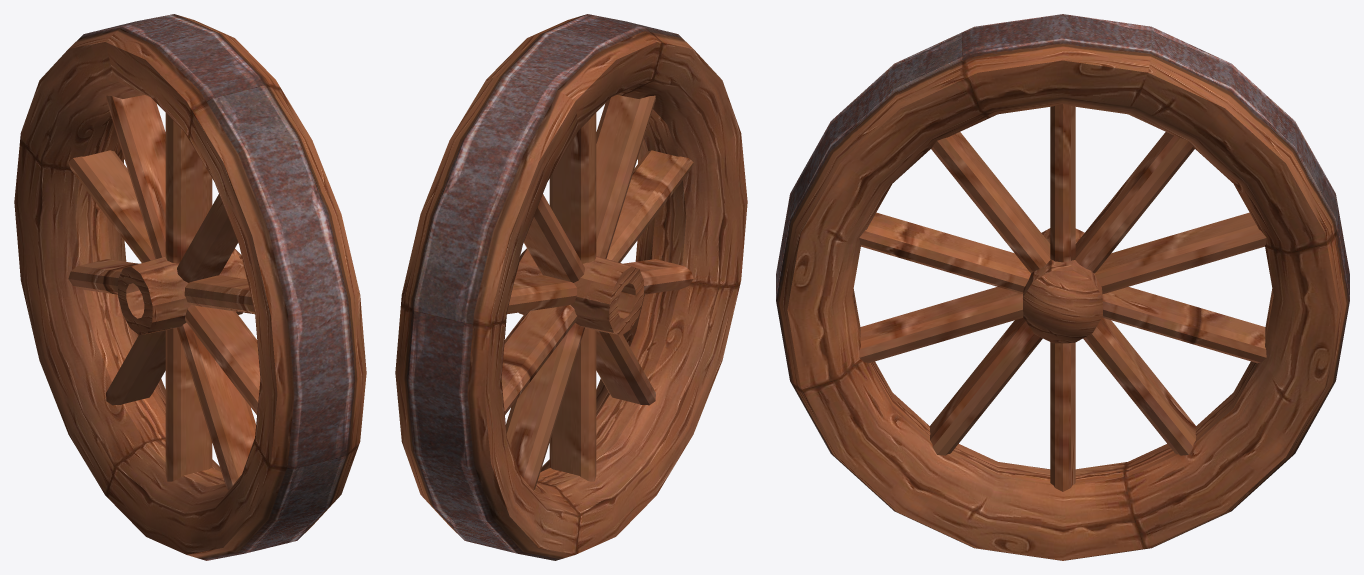
File: Cannon-wheelV2.fbx
3 views of the same model, side by side, from view 1: azimuth 30°, elevation 25°; view 2: azimuth 150°, elevation 25°; view 3: azimuth 270°, elevation 25° (orthographic). The views are drawn at different scales.
Visible parts, largest first — view 1: pTorus2; view 2: pTorus2; view 3: pTorus2.
Part boxes in pixels (<box>): pTorus2: <box>14,14,366,560</box>; pTorus2: <box>395,14,747,560</box>; pTorus2: <box>776,14,1349,560</box>.
Size of the model in its own units: 0.4972 by 2.16 by 2.16.
